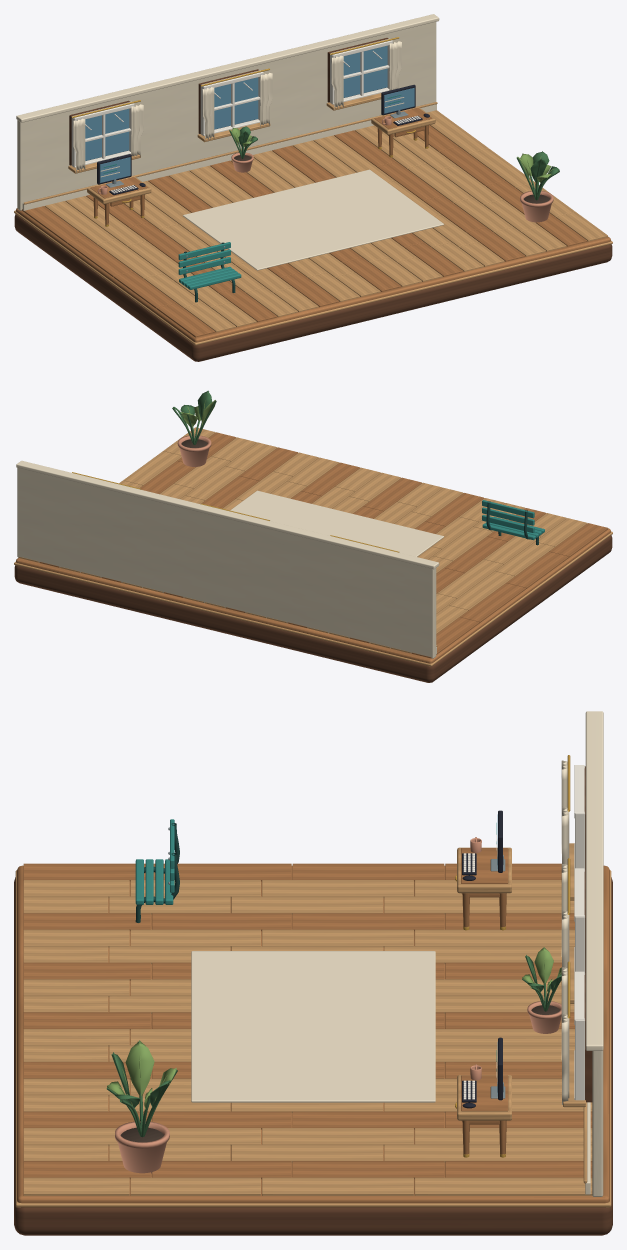
The model's file is office.glb.
3 views of the same model, one above another, from view 1: azimuth 30°, elevation 25°; view 2: azimuth 150°, elevation 25°; view 3: azimuth 270°, elevation 25° (orthographic). The views are drawn at different scales.
Parts seen in each view (by area): view 1: Crafted_wood_light, Crafted_wood, Crafted_cream, Crafted_plaster, Crafted_edge, Crafted_blue, Crafted_white, Crafted_teal, Crafted_ceramic, Crafted_leaf, Crafted_ink, Crafted_brass (+1 smaller); view 2: Crafted_plaster, Crafted_wood_light, Crafted_wood, Crafted_edge, Crafted_cream, Crafted_teal, Crafted_leaf, Crafted_ceramic; view 3: Crafted_wood_light, Crafted_wood, Crafted_cream, Crafted_edge, Crafted_white, Crafted_ceramic, Crafted_lightleaf, Crafted_leaf, Crafted_teal, Crafted_plaster, Crafted_ink, Crafted_brass.
Boxes of the visible parts, x1,y1,x2,y2 form: Crafted_wood_light: (14,93,612,345); Crafted_wood: (16,108,610,342); Crafted_cream: (16,14,443,270); Crafted_plaster: (17,22,436,210); Crafted_edge: (14,38,612,361); Crafted_blue: (85,45,414,182); Crafted_white: (71,38,420,193); Crafted_teal: (103,95,401,289); Crafted_ceramic: (97,116,553,222); Crafted_leaf: (229,126,559,200); Crafted_ink: (97,84,429,195); Crafted_brass: (72,37,428,226); Crafted_plaster: (17,468,436,658); Crafted_wood_light: (14,427,612,666); Crafted_wood: (16,432,610,663); Crafted_edge: (14,535,612,682); Crafted_cream: (16,460,443,653); Crafted_teal: (482,500,544,540); Crafted_leaf: (172,390,216,444); Crafted_ceramic: (177,435,211,467); Crafted_wood_light: (15,843,611,1207); Crafted_wood: (17,848,609,1203); Crafted_cream: (191,711,603,1194); Crafted_edge: (14,766,612,1235); Crafted_white: (463,765,584,1100); Crafted_ceramic: (115,837,561,1173); Crafted_lightleaf: (107,947,561,1109); Crafted_leaf: (106,948,561,1137); Crafted_teal: (135,819,496,1071); Crafted_plaster: (592,1050,603,1196); Crafted_ink: (462,810,502,1108); Crafted_brass: (455,755,570,1157).
Bounding box in the file's own units: 13 × 3.49 × 9.8.
16 materials, 5 textured.
